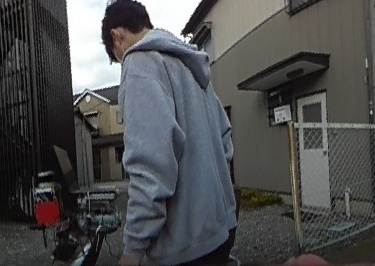person: (97, 0, 245, 266)
